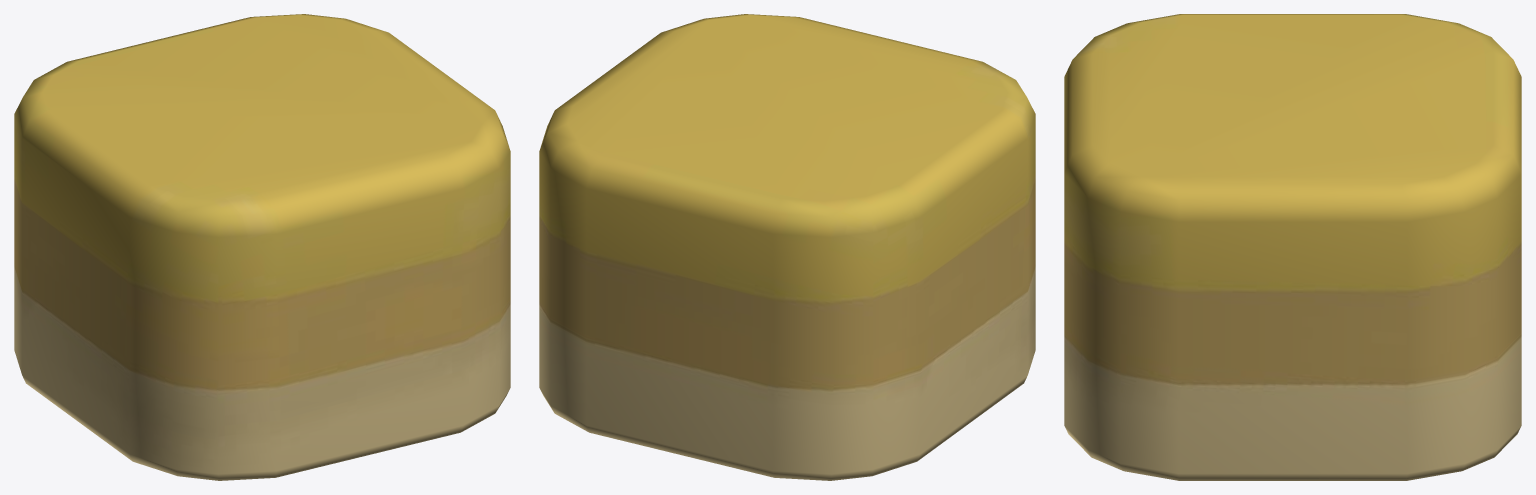
3 renders of one model, left to right at view 1: azimuth 30°, elevation 25°; view 2: azimuth 150°, elevation 25°; view 3: azimuth 270°, elevation 25°, orthographic. The views are drawn at different scales.
Parts seen in each view (by area): view 1: di1; view 2: di1; view 3: di1.
Boxes of the visible parts, x1,y1,x2,y2 form: di1: (14, 14, 510, 480); di1: (539, 14, 1035, 480); di1: (1064, 14, 1521, 480).
Bounding box in the file's own units: 2 × 1.4 × 2.
